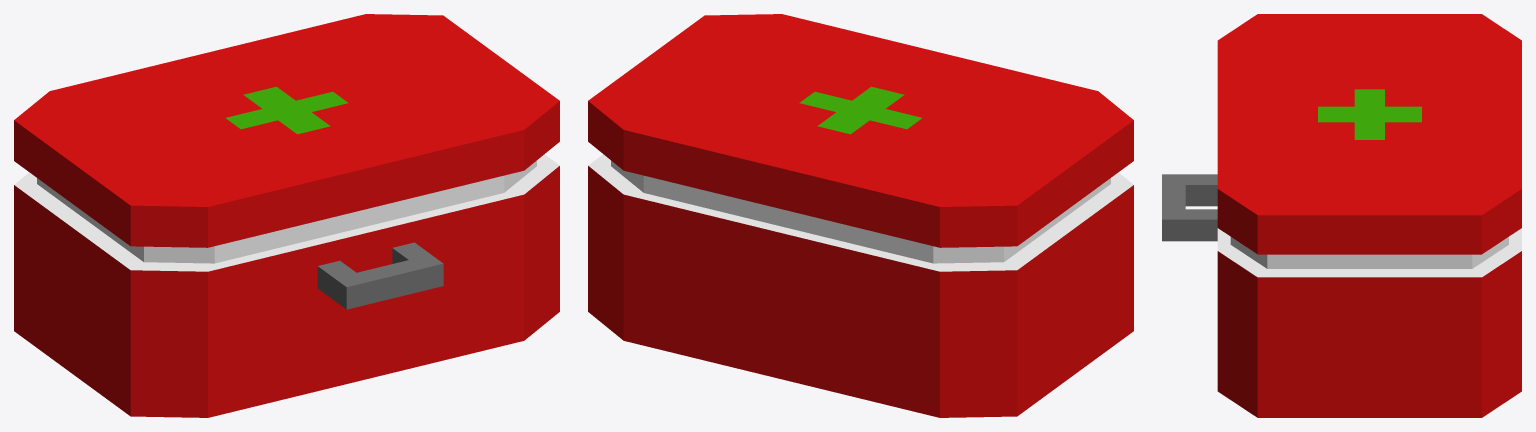
File: health.pickUp.fbx
The picture shows the model from 3 angles, left to right: view 1: azimuth 30°, elevation 25°; view 2: azimuth 150°, elevation 25°; view 3: azimuth 270°, elevation 25°; orthographic projection. The views are drawn at different scales.
Visible parts, largest first — view 1: Cube, Cube.001; view 2: Cube; view 3: Cube, Cube.001.
Part boxes in pixels (x1,y1,x2,y2): Cube: (14, 14, 559, 417); Cube.001: (317, 242, 443, 309); Cube: (588, 14, 1133, 417); Cube: (1217, 14, 1521, 417); Cube.001: (1162, 174, 1217, 241).
Bounding box in the file's own units: 386 × 292 × 181.
